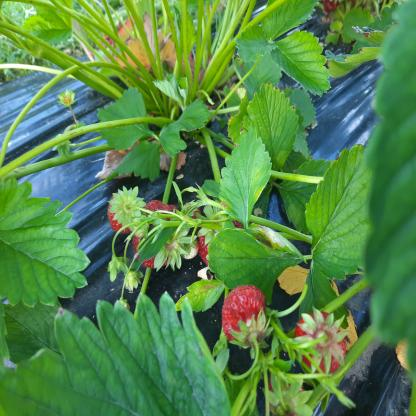ripe: (199, 200, 246, 267), (294, 314, 351, 368), (132, 205, 182, 262), (223, 289, 268, 342), (110, 195, 141, 231)
